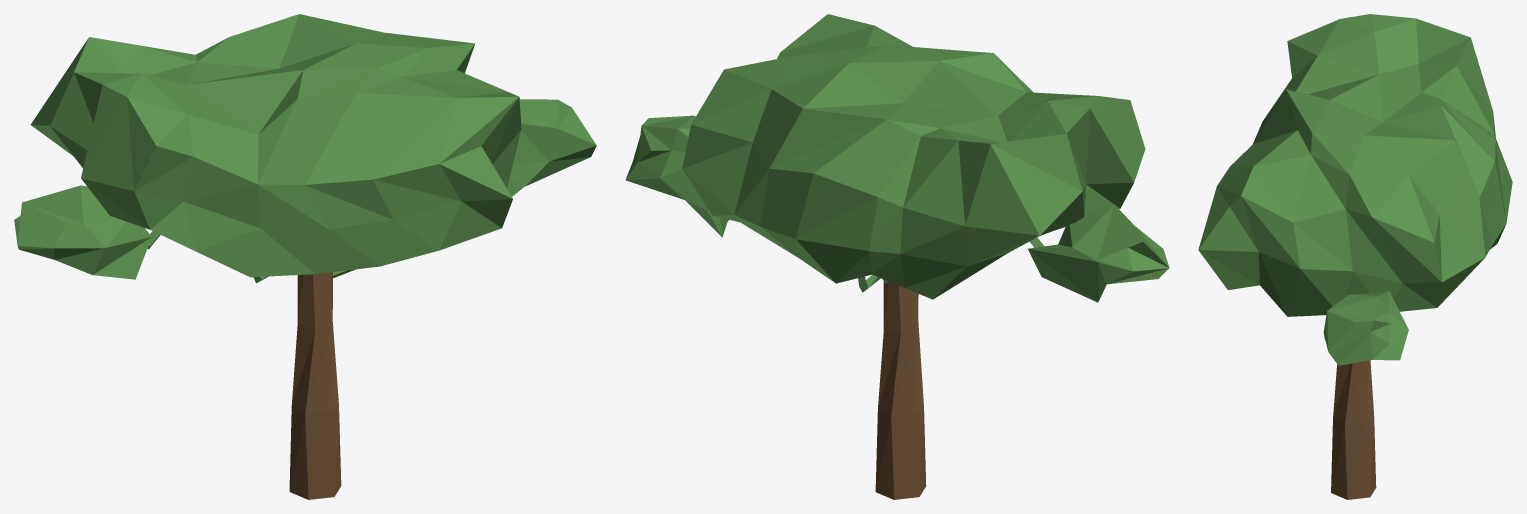
The model's file is tree3d-052.glb.
The picture shows the model from 3 angles, left to right: view 1: azimuth 30°, elevation 25°; view 2: azimuth 150°, elevation 25°; view 3: azimuth 270°, elevation 25°; orthographic projection. The views are drawn at different scales.
Parts seen in each view (by area): view 1: tree3d-052; view 2: tree3d-052; view 3: tree3d-052.
Boxes of the visible parts, box(x1,y1,x2,y2) form: tree3d-052: box(14, 14, 596, 499); tree3d-052: box(625, 14, 1169, 499); tree3d-052: box(1198, 14, 1512, 499).
Bounding box in the file's own units: 1.3 × 1 × 0.7307.
